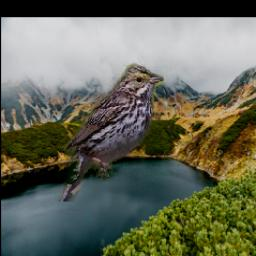Sparrow: (55, 62, 164, 202)
